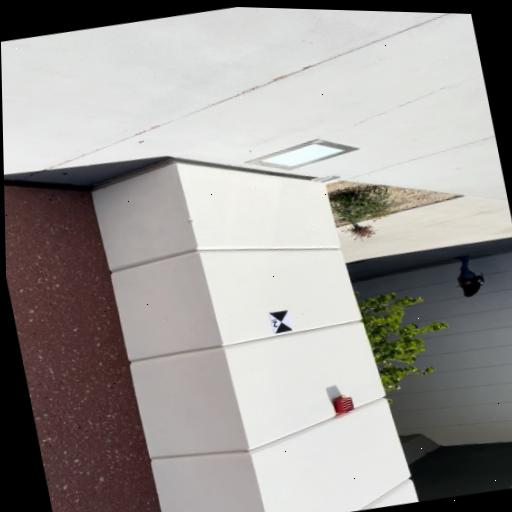target2: (268, 309, 294, 336)
